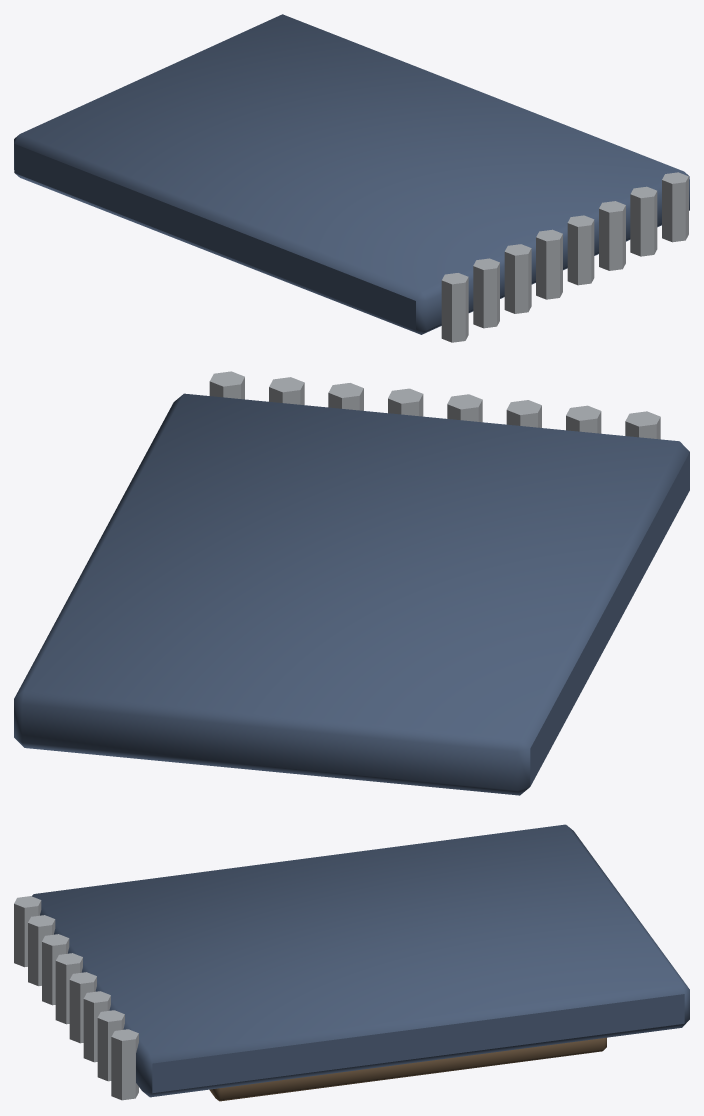
The model's file is item_notebook_ground.glb.
3 views of the same model, one above another, from view 1: azimuth 30°, elevation 25°; view 2: azimuth 150°, elevation 25°; view 3: azimuth 270°, elevation 25° (orthographic). The views are drawn at different scales.
Visible parts, largest first — view 1: notebook_ground; view 2: notebook_ground; view 3: notebook_ground.
Part boxes in pixels (x1=…): notebook_ground: x1=14, y1=14, x2=689, y2=342; notebook_ground: x1=14, y1=371, x2=689, y2=795; notebook_ground: x1=14, y1=824, x2=689, y2=1101.
Size of what is drawn, in the model's own units: 0.1357 by 0.0195 by 0.165.
